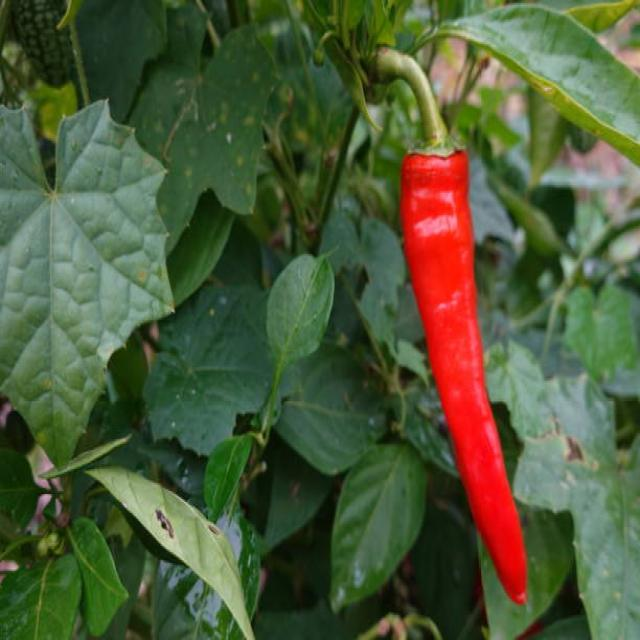Ripe: (402, 151, 528, 621)
